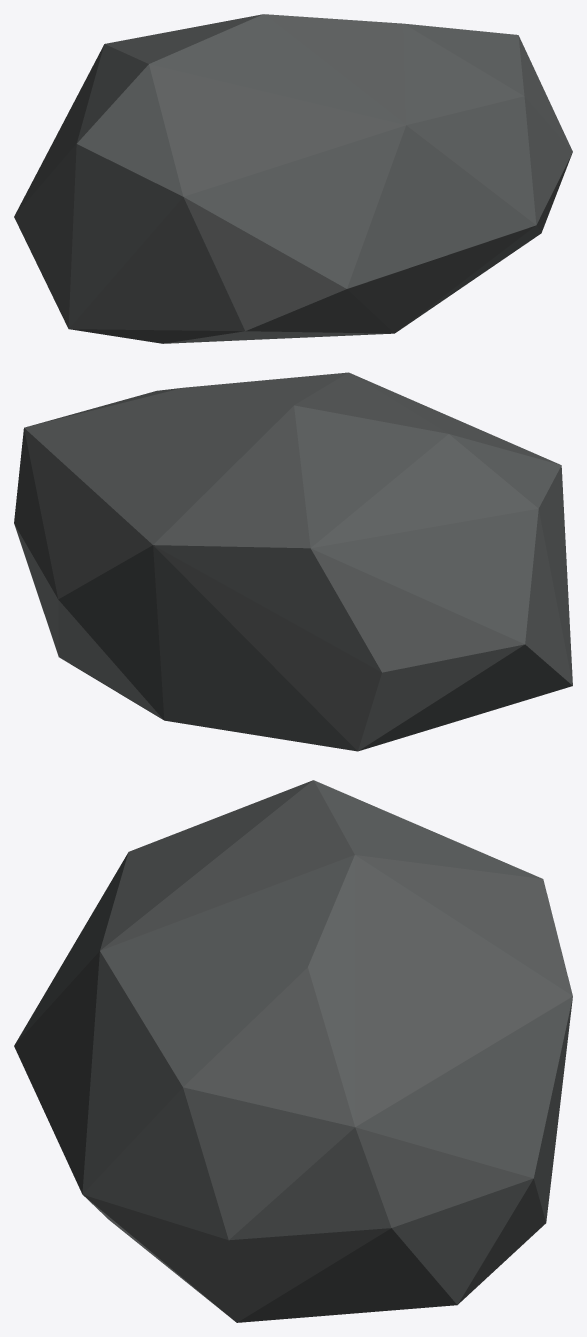
The model's file is stone.glb.
The picture shows the model from 3 angles, top to bottom: view 1: azimuth 30°, elevation 25°; view 2: azimuth 150°, elevation 25°; view 3: azimuth 270°, elevation 25°; orthographic projection. The views are drawn at different scales.
Visible parts, largest first — view 1: Stone2; view 2: Stone2; view 3: Stone2.
Boxes of the visible parts, box(x1,y1,x2,y2) form: Stone2: box(14, 14, 572, 343); Stone2: box(14, 372, 572, 751); Stone2: box(14, 780, 572, 1322).
Size of the model in its own units: 0.4197 by 0.2132 by 0.3127.
1 material, 1 textured.
